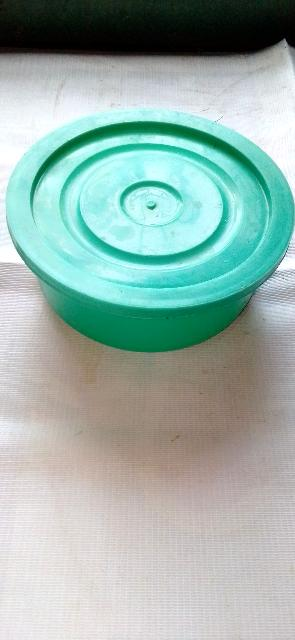hardplastic: (0, 103, 295, 359)
